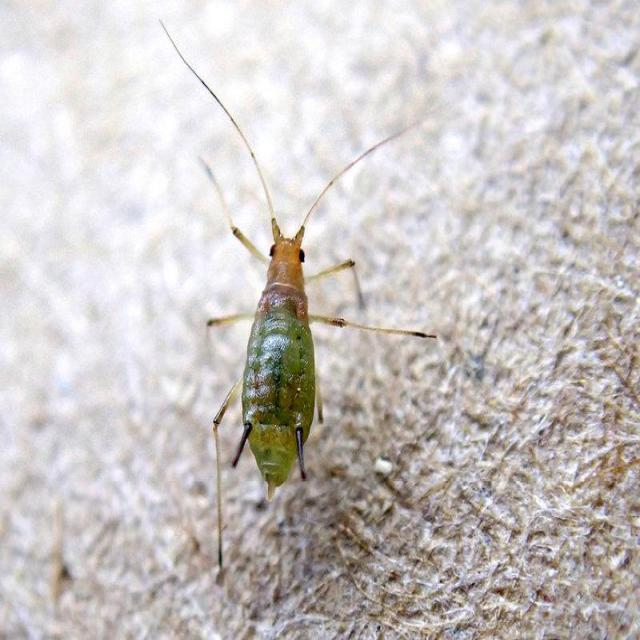Aphids: (154, 39, 449, 556)
